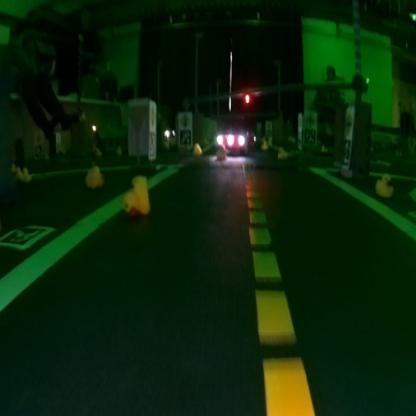duckie: (119, 166, 156, 217), (80, 156, 108, 195)
duckiebot: (214, 116, 256, 160)
